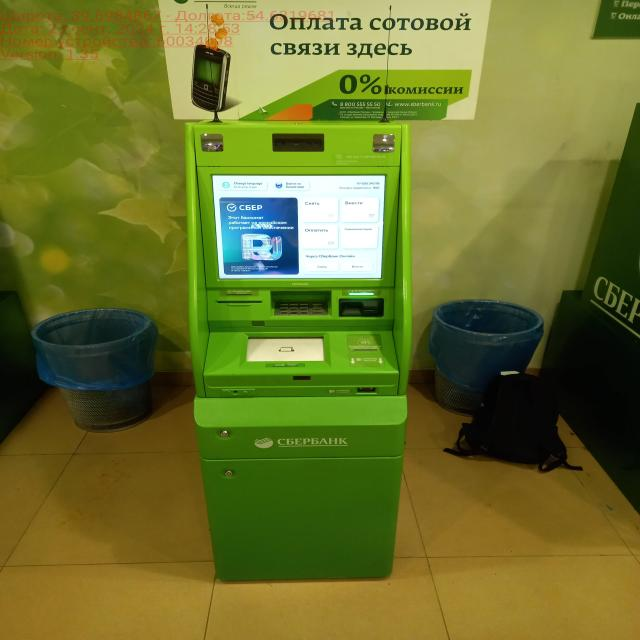bank: (183, 115, 410, 584)
